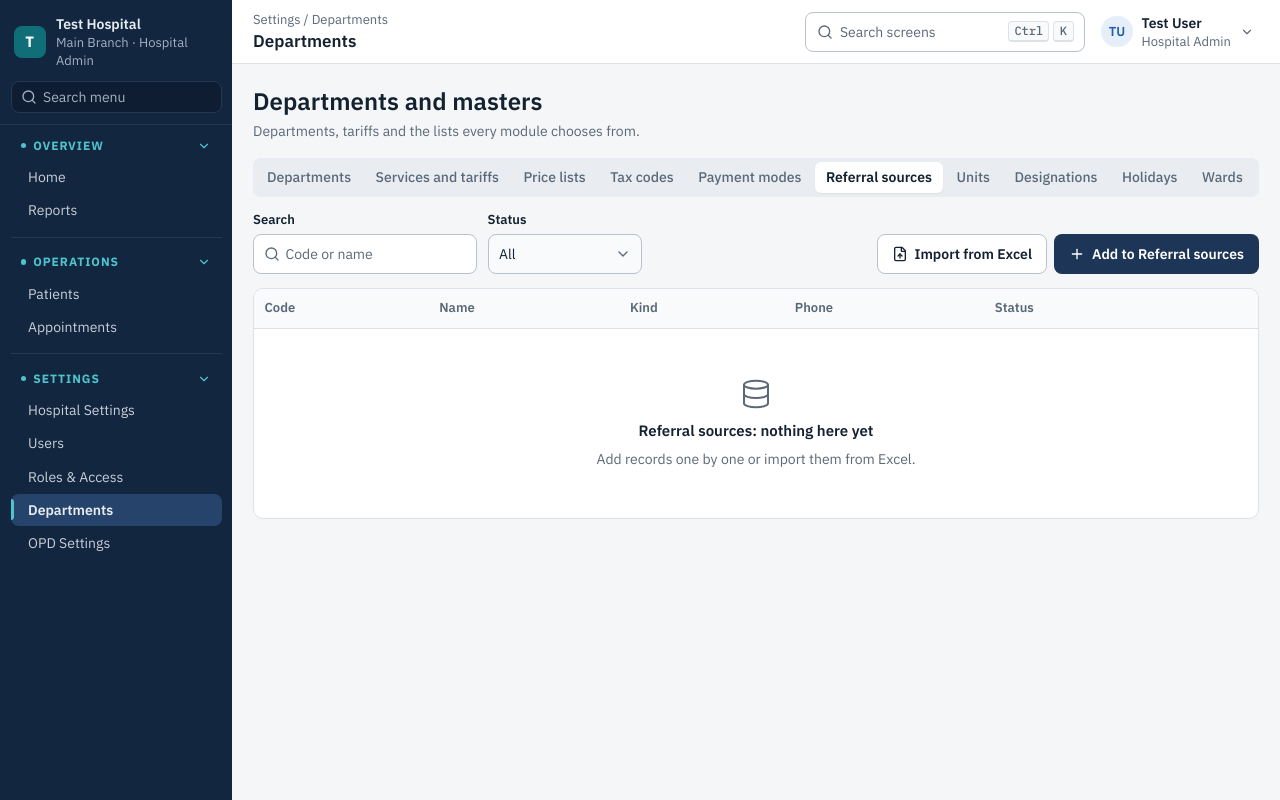
it: Generated master forms › adds a referral source from the generated form
The image size is (1280, 800).
Expected: the heading "Referral sources: nothing here yet" is shown, [638,420,873,442]
Click the button "Add to Referral sources": (1156, 254) [1054,234,1259,274]
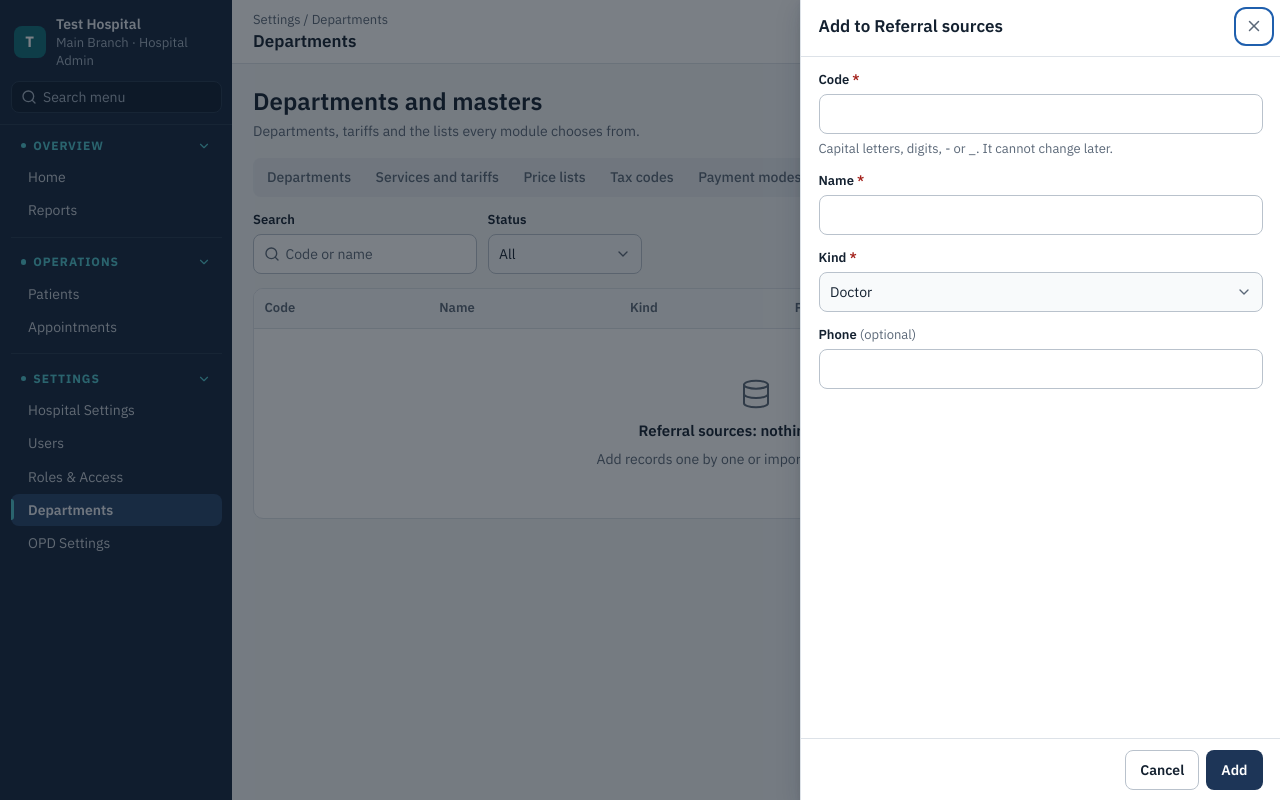
In the field labelled "Code *": (1040, 114) [818,94,1262,134], type "camp1"
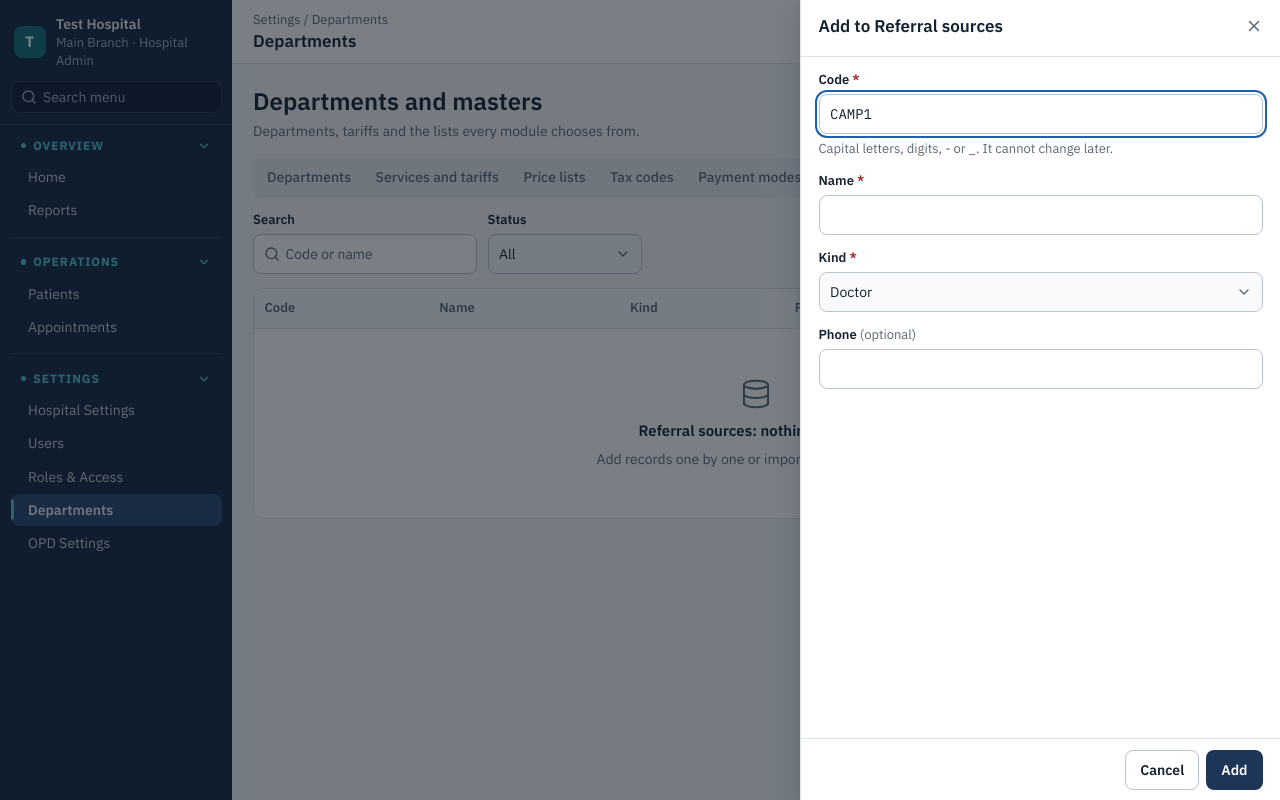
In the field labelled "Name *": (1040, 215) [818,195,1262,235], type "Health camp Pune"
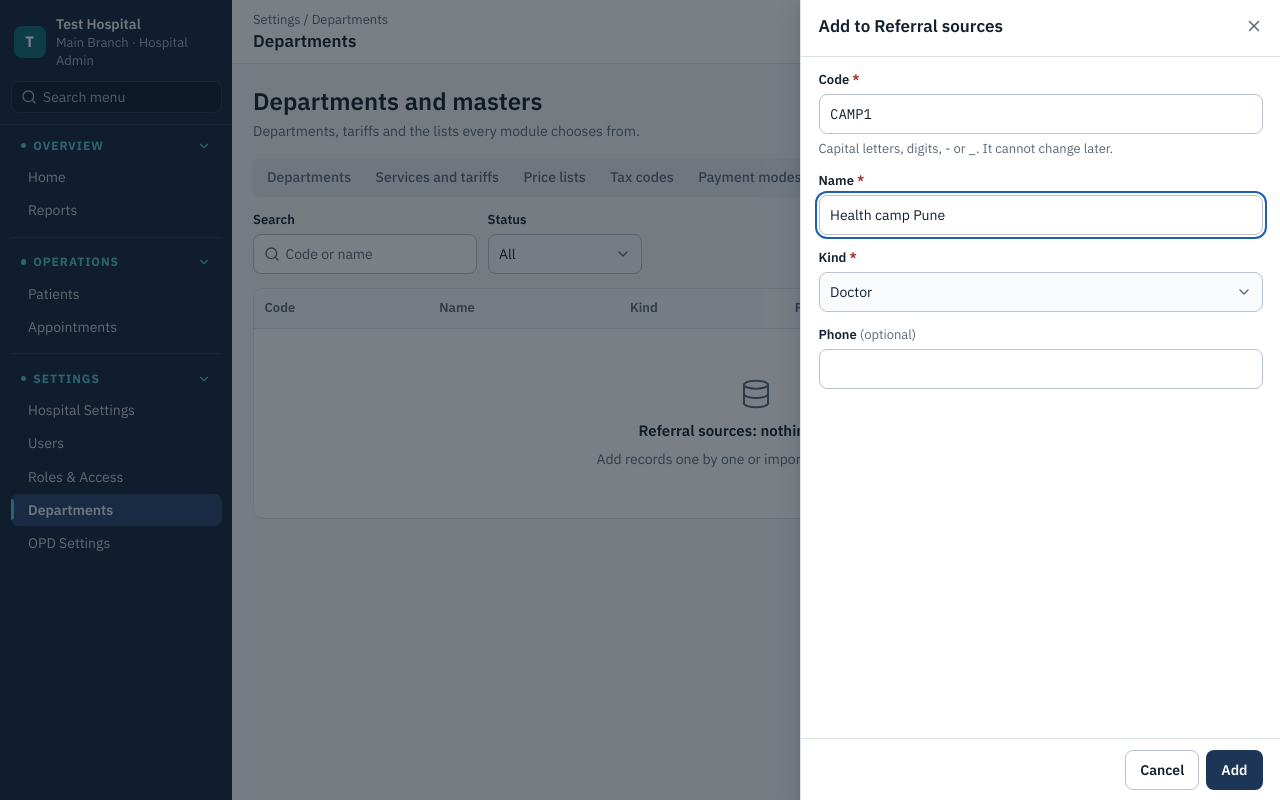
Select "Health camp" in the dropdown labelled "Kind *": (1040, 292) [818,272,1262,312]
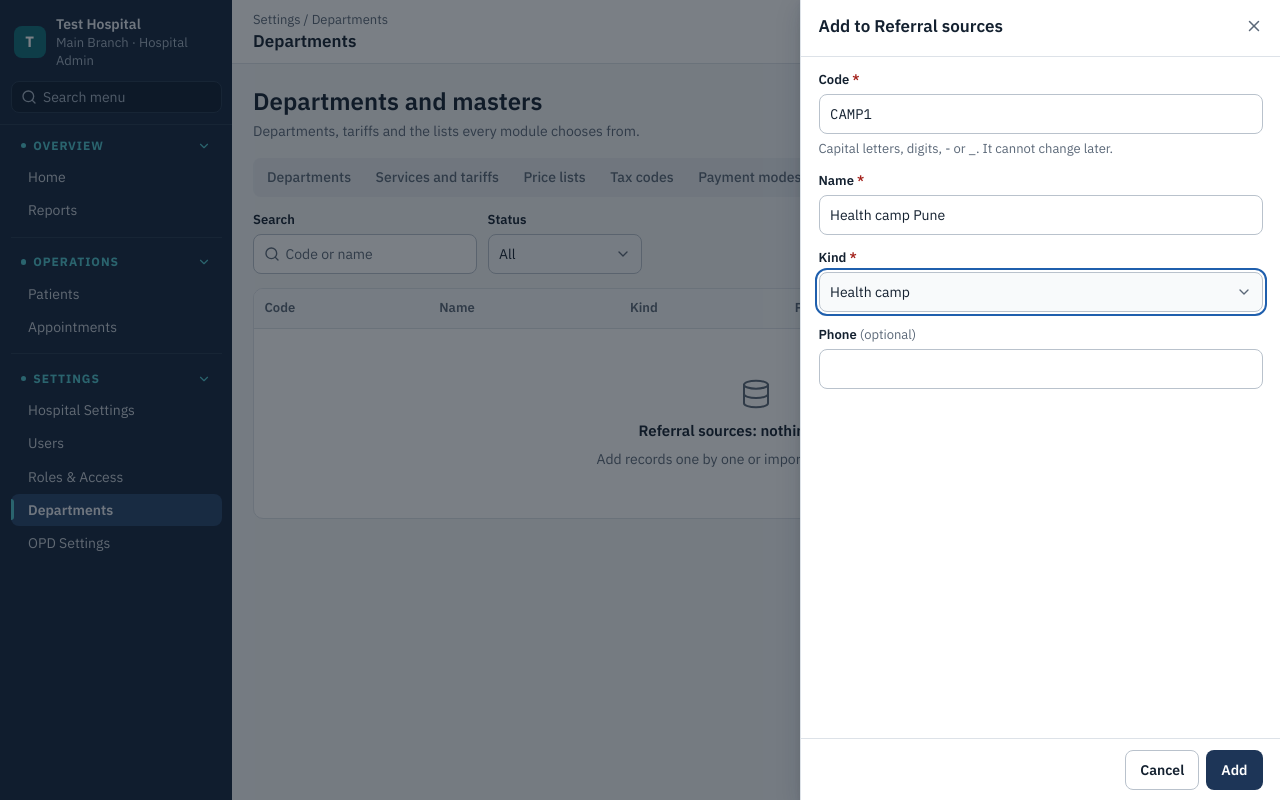
Click the button "Add": (1234, 770) [1206,750,1262,790]
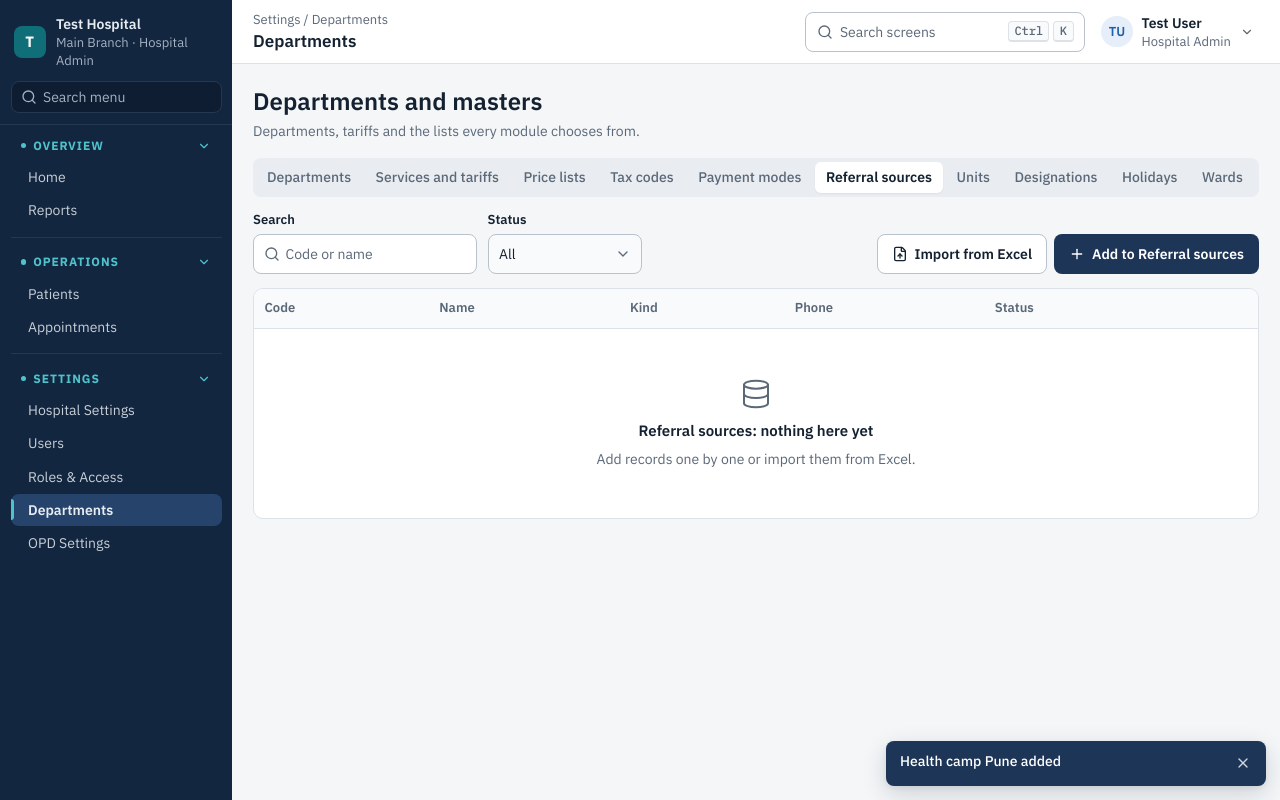
Expected: the text "Health camp Pune added" is shown, [900,752,1061,770]
